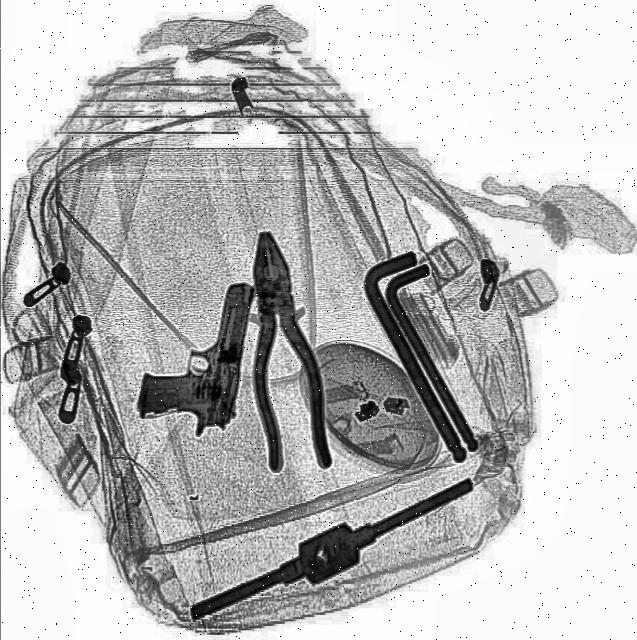Gun: (136, 274, 254, 441)
Pliers: (234, 230, 334, 478)
